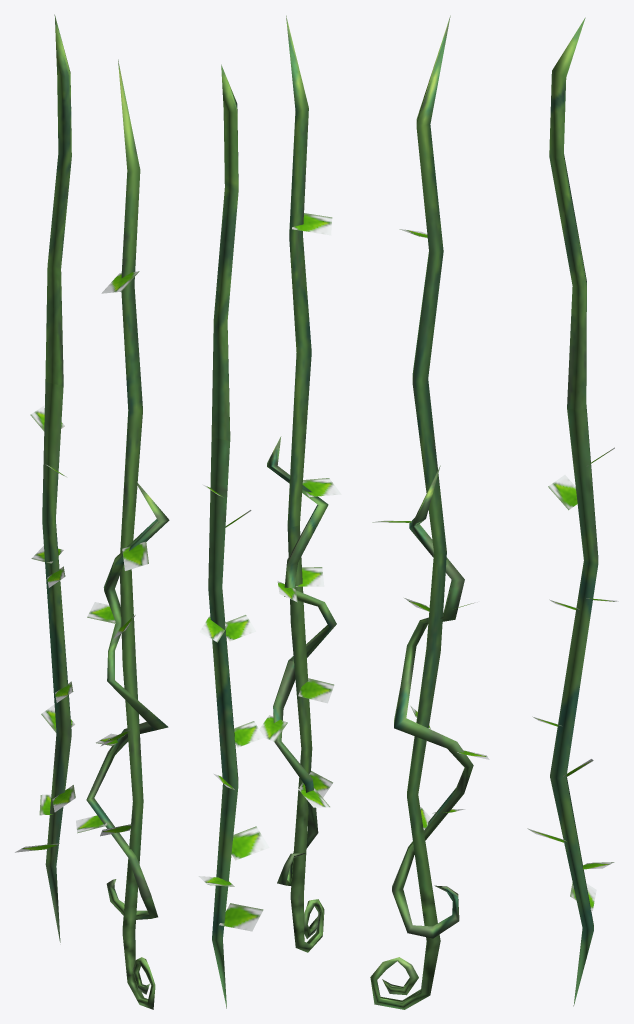
The model's file is rattan01.FBX.
3 renders of one model, left to right at view 1: azimuth 30°, elevation 25°; view 2: azimuth 150°, elevation 25°; view 3: azimuth 270°, elevation 25°, orthographic. The views are drawn at different scales.
Parts seen in each view (by area): view 1: rattan; view 2: rattan; view 3: rattan.
Part boxes in pixels (bbox=[...]): rattan: bbox=[15, 14, 169, 1009]; rattan: bbox=[198, 15, 341, 1008]; rattan: bbox=[370, 15, 618, 1009].
Bounding box in the file's own units: 4.97 × 13.01 × 57.36.
